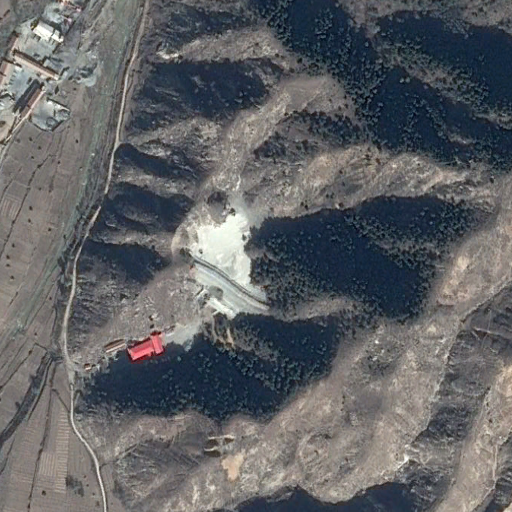tp: (189, 186, 271, 322)
